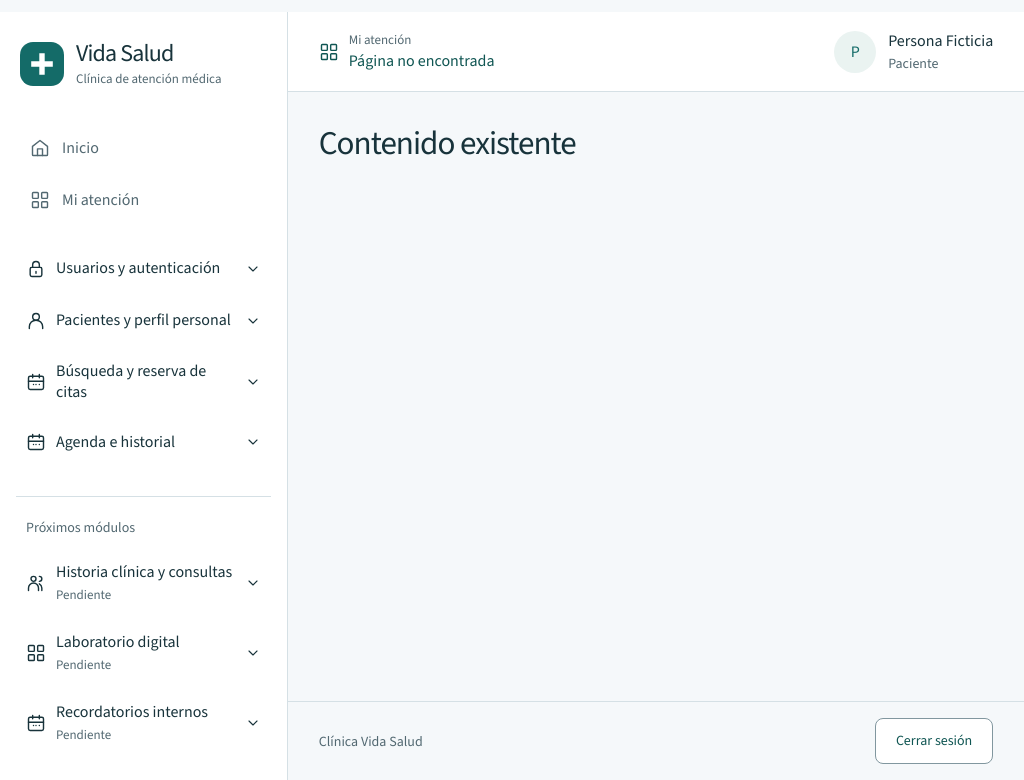
it: sidebar modular y orientación › Paciente puede desplegar sus módulos sin CU visibles ni funciones ajenas
Expected: the link "Reservar cita" is not shown
Click the button "Búsqueda y reserva de citas": (144, 382) [16, 349, 271, 414]
(page scrolled)
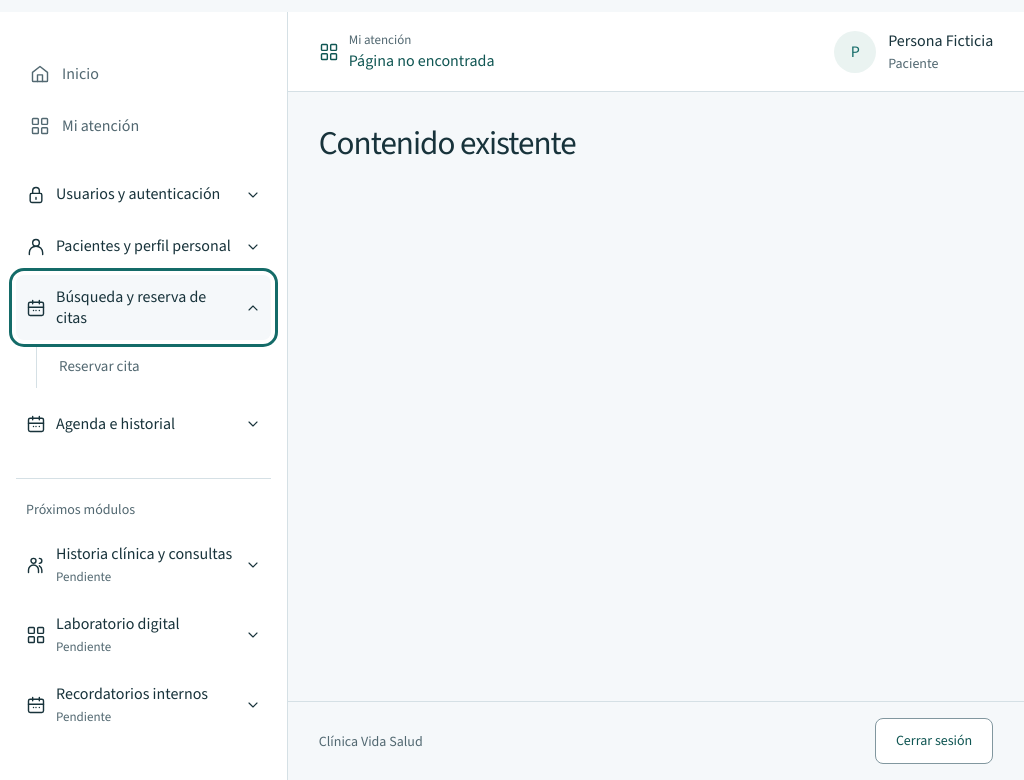
Expected: the number of buttons "Cerrar sesión" is 1, [875, 718, 993, 764]
Expected: the button "Búsqueda y reserva de citas" is expanded, [16, 275, 271, 340]
Expected: the link "Reservar cita" is shown, [59, 356, 140, 376]
